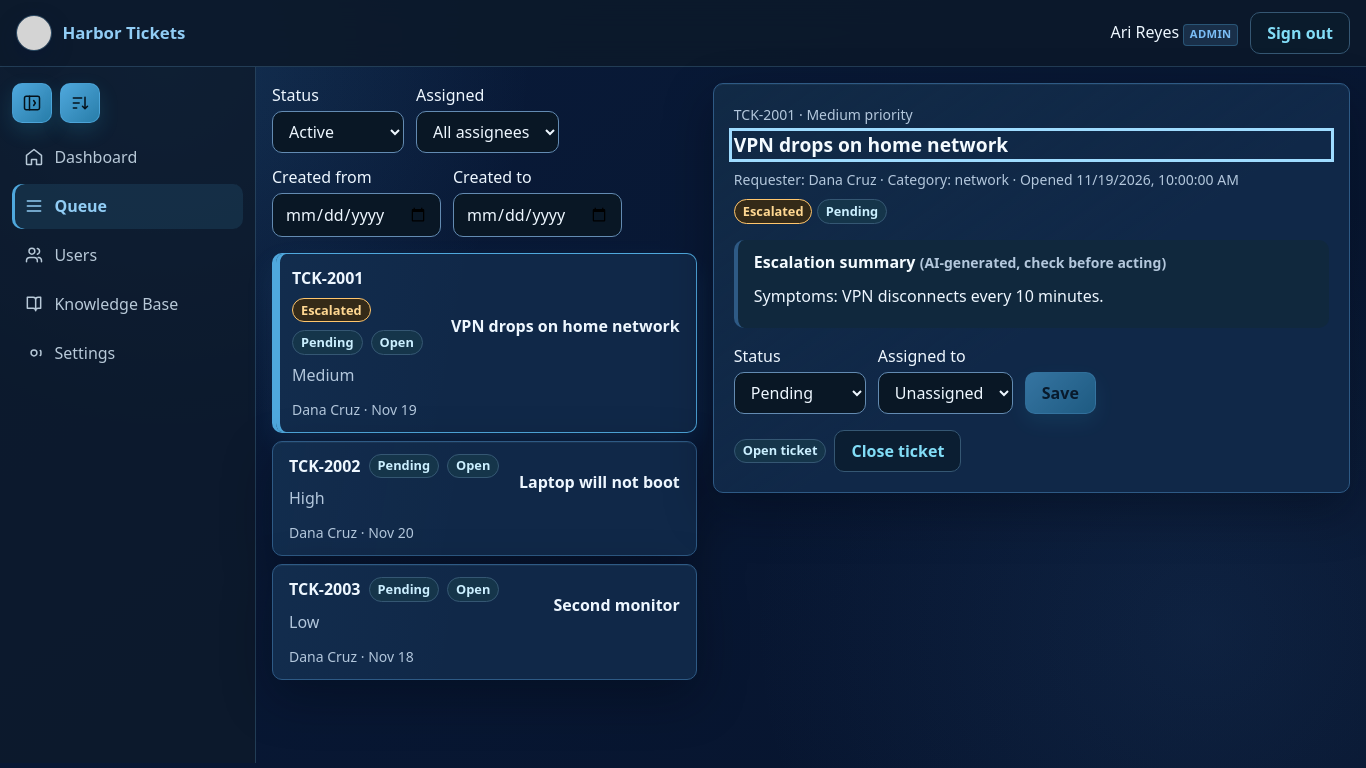
Test: admin queue and ticket detail (S3-06) › reverts and explains a conflict
Step 1. Select "In progress" in the dropdown labelled "Status" below "Assigned to" → (800, 393), box [734,372,866,414]
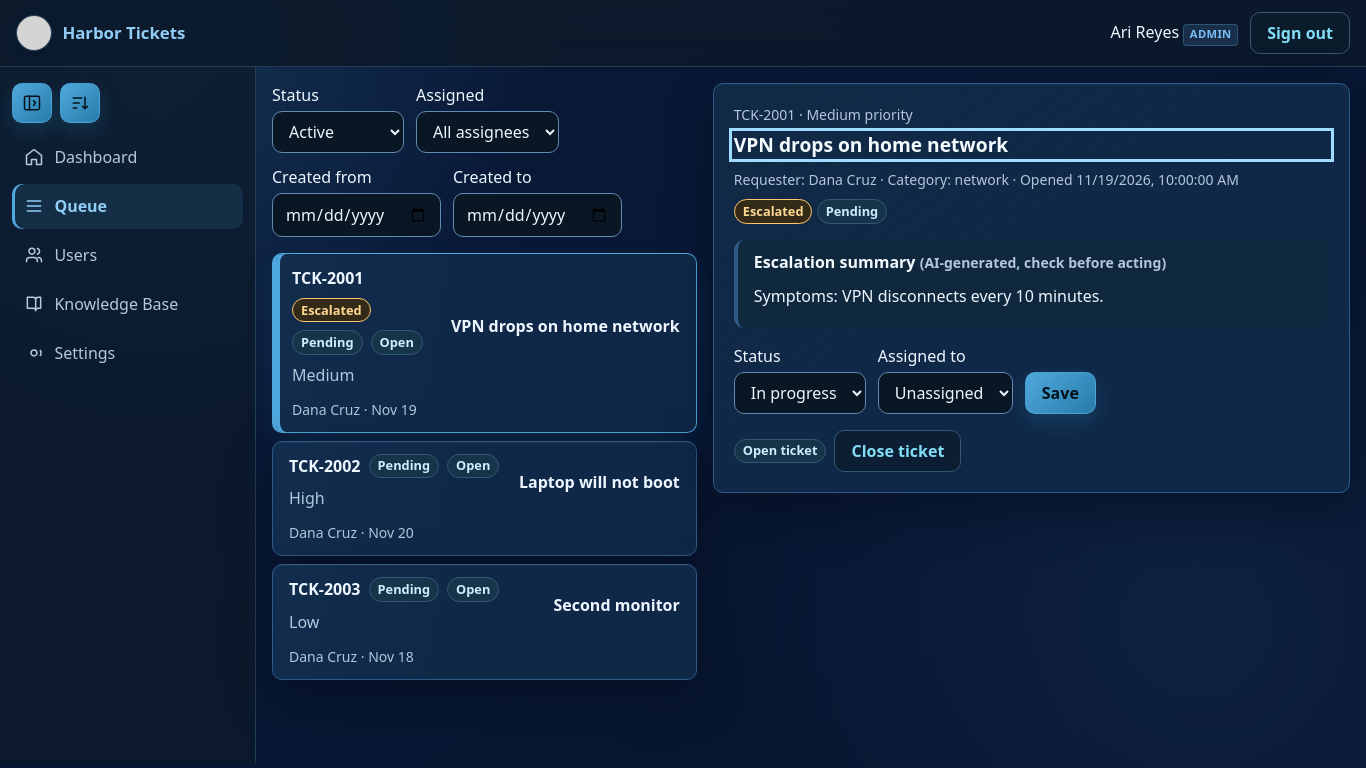
Step 2. Click the button "Save" → (1060, 393), box [1025,372,1096,414]
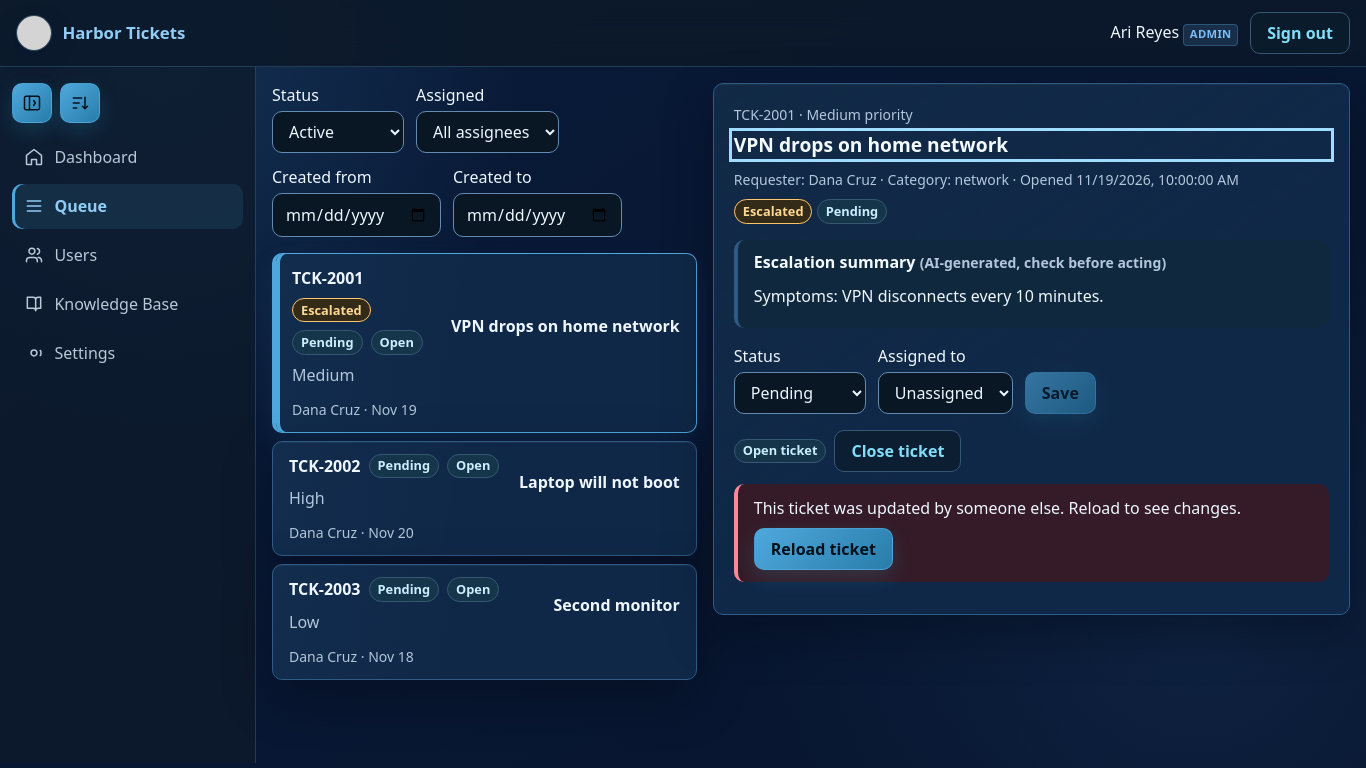
Now the message shows "updated by someone else", box [754,497,1241,519]
Now the button "Reload ticket" is shown, box [754,528,893,570]
